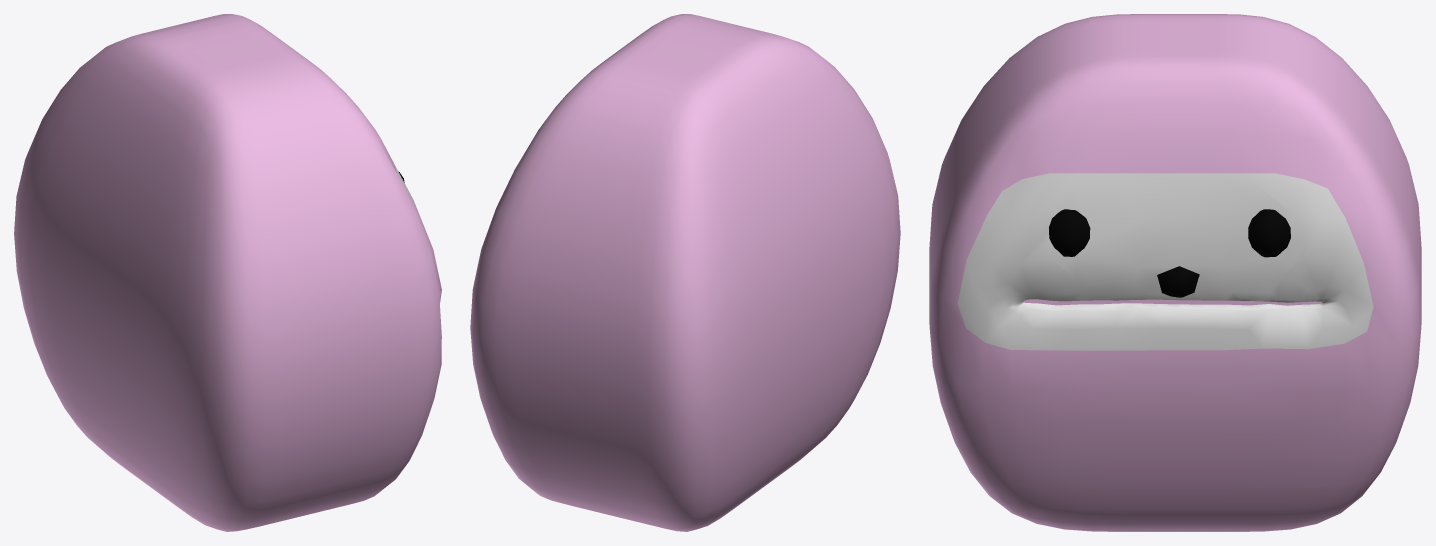
Rendered from PlushieBaseIzmena1.fbx.
3 views of the same model, side by side, from view 1: azimuth 30°, elevation 25°; view 2: azimuth 150°, elevation 25°; view 3: azimuth 270°, elevation 25° (orthographic). The views are drawn at different scales.
Parts seen in each view (by area): view 1: Sphere.003; view 2: Sphere.003; view 3: Sphere.003.
Boxes of the visible parts, x1,y1,x2,y2 form: Sphere.003: (14,14,441,531); Sphere.003: (470,14,900,531); Sphere.003: (929,14,1421,531).
Size of the model in its own units: 80.17 by 132 by 127.
